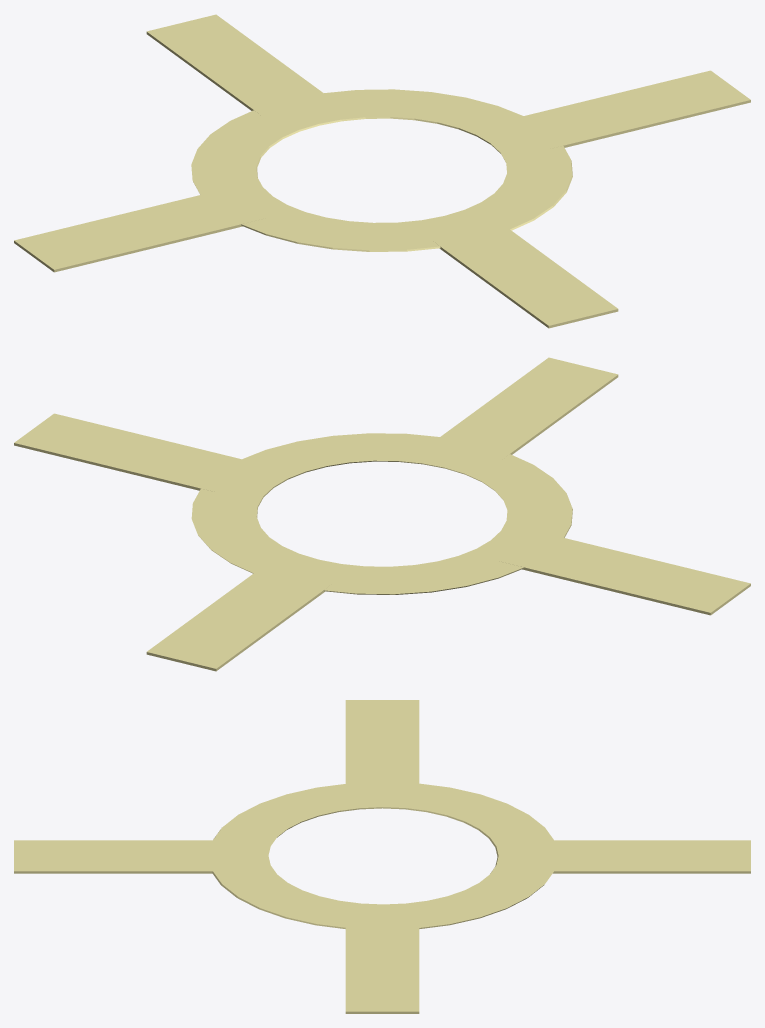
File: path.glb
3 renders of one model, top to bottom at view 1: azimuth 30°, elevation 25°; view 2: azimuth 150°, elevation 25°; view 3: azimuth 270°, elevation 25°, orthographic. The views are drawn at different scales.
Parts seen in each view (by area): view 1: Circle_Path; view 2: Circle_Path; view 3: Circle_Path.
Part boxes in pixels (box(x1,y1,x2,y2)): Circle_Path: box(14, 14, 750, 328); Circle_Path: box(14, 357, 750, 671); Circle_Path: box(14, 700, 750, 1013).
Bounding box in the file's own units: 6 × 0.0213 × 6.
